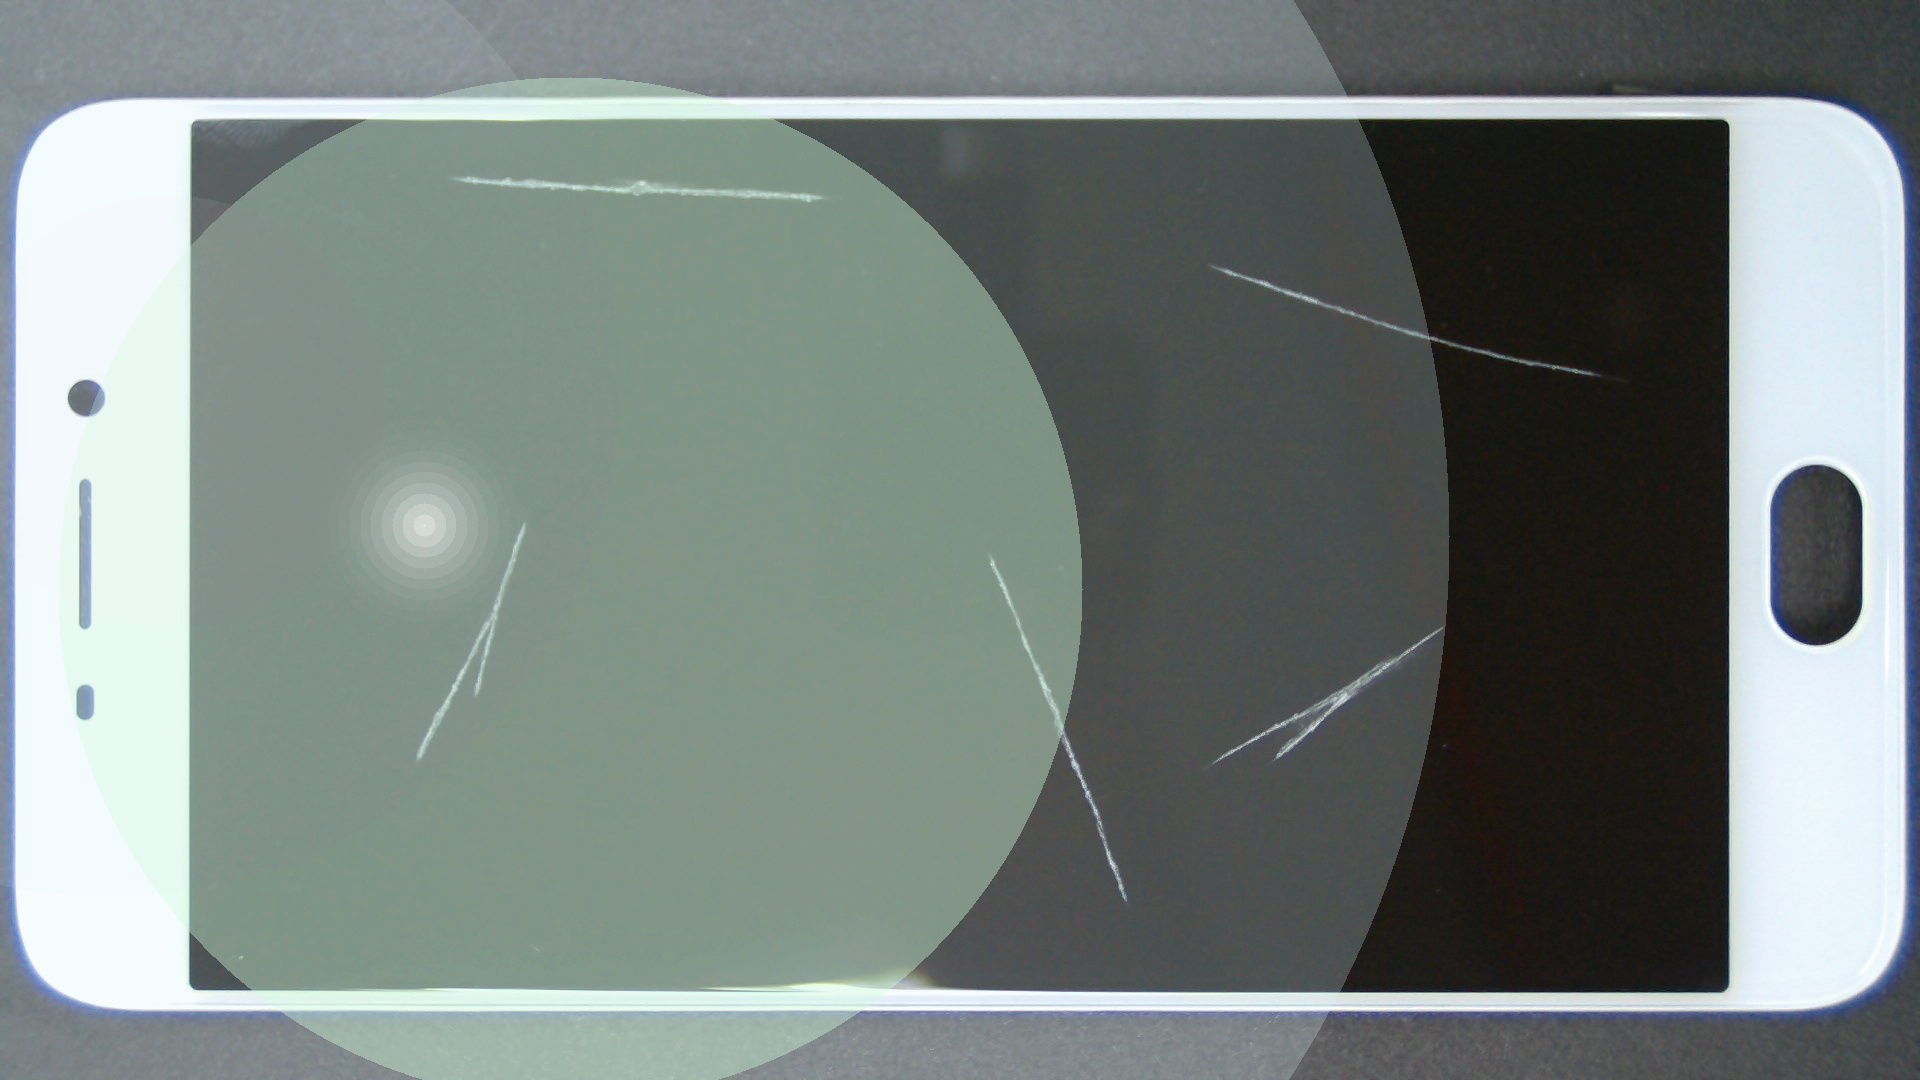oil: (723, 313, 1920, 938), (493, 276, 1481, 832), (604, 132, 1812, 396), (264, 258, 786, 782), (225, 87, 675, 261)
